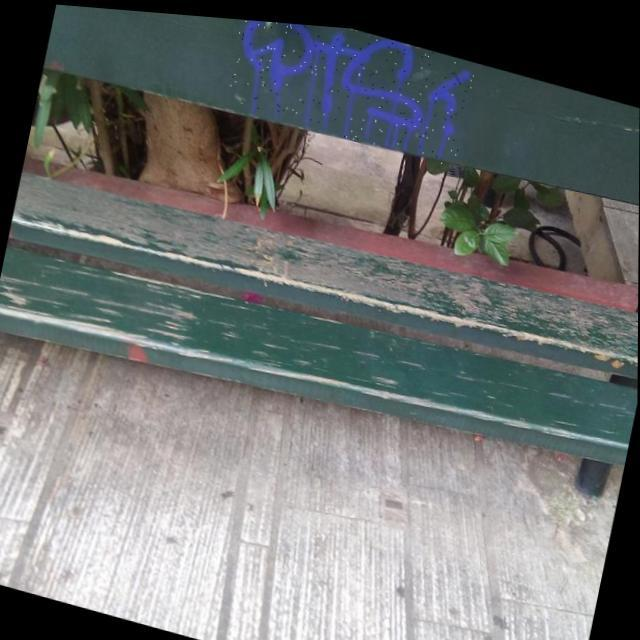-: (223, 14, 478, 162)
